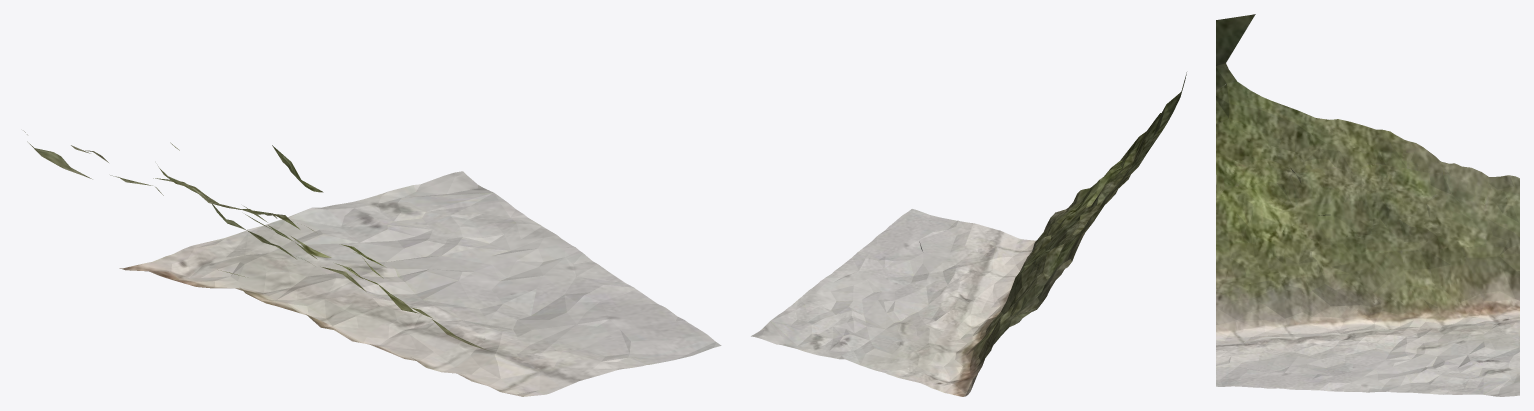
3 renders of one model, left to right at view 1: azimuth 30°, elevation 25°; view 2: azimuth 150°, elevation 25°; view 3: azimuth 270°, elevation 25°, orthographic. The views are drawn at different scales.
Size of the model in its own units: 2.95 by 2.82 by 2.95.
Materials: 3 (3 with a texture image).
